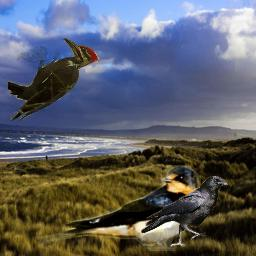Crow: (141, 175, 230, 248)
Swallow: (36, 165, 201, 251)
Woodpecker: (8, 38, 99, 122)
